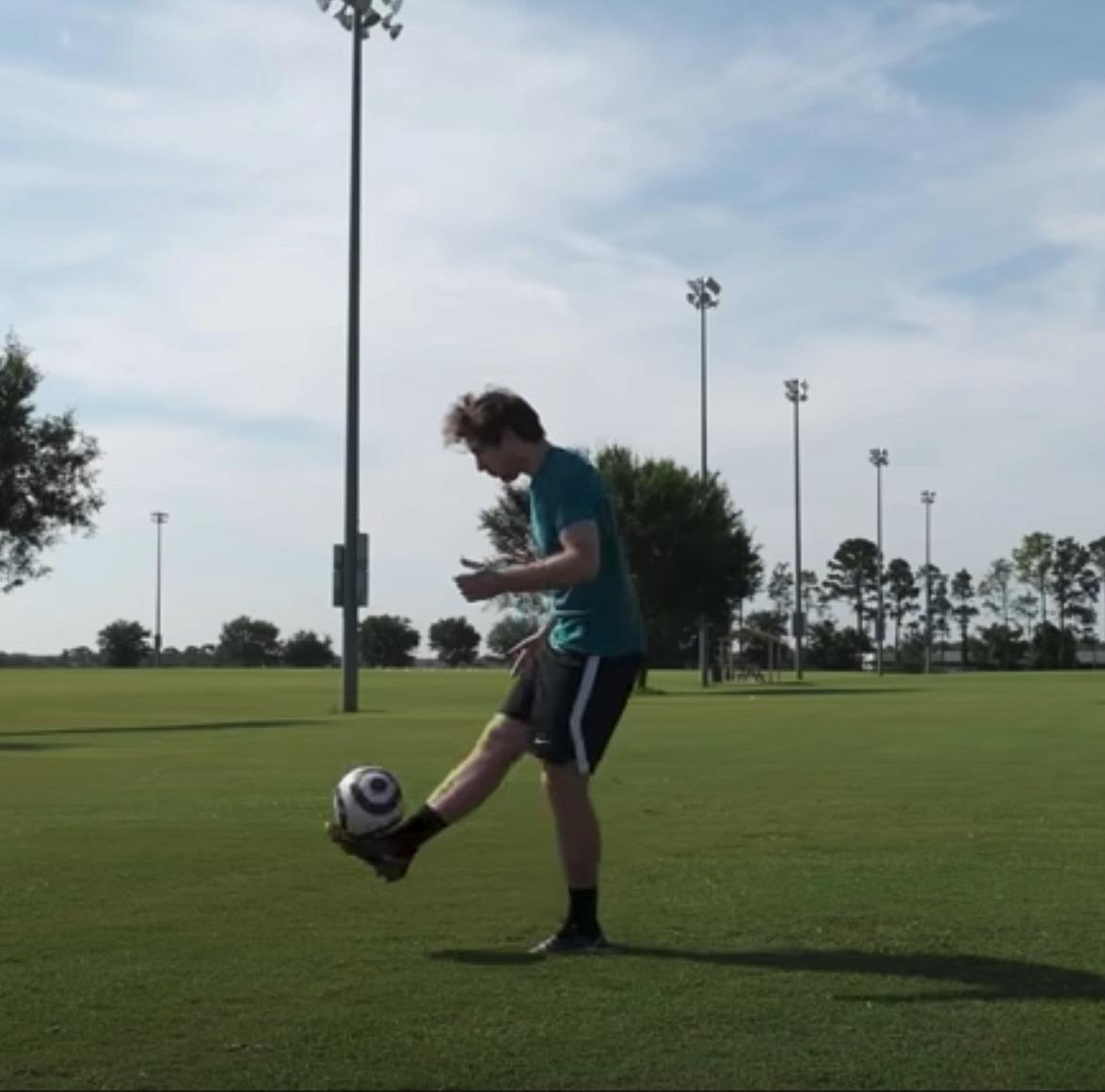ball: (336, 766, 403, 840)
foot: (327, 827, 413, 885), (530, 920, 611, 958)
person: (324, 386, 642, 954)
